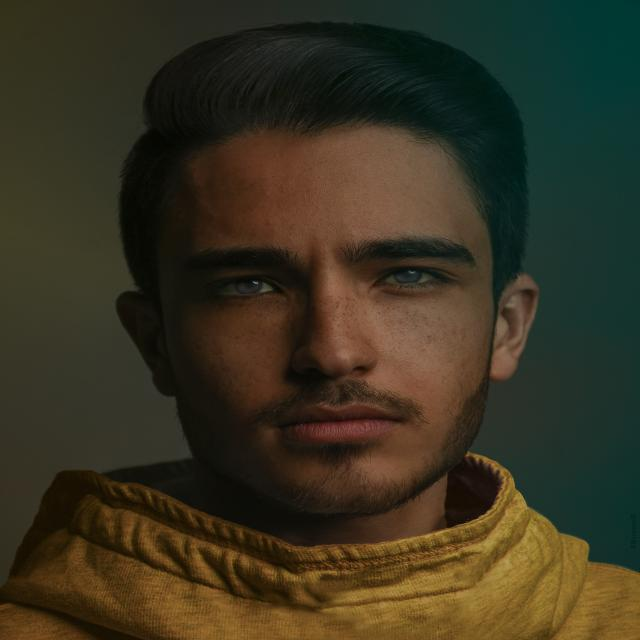human: (14, 19, 640, 640)
